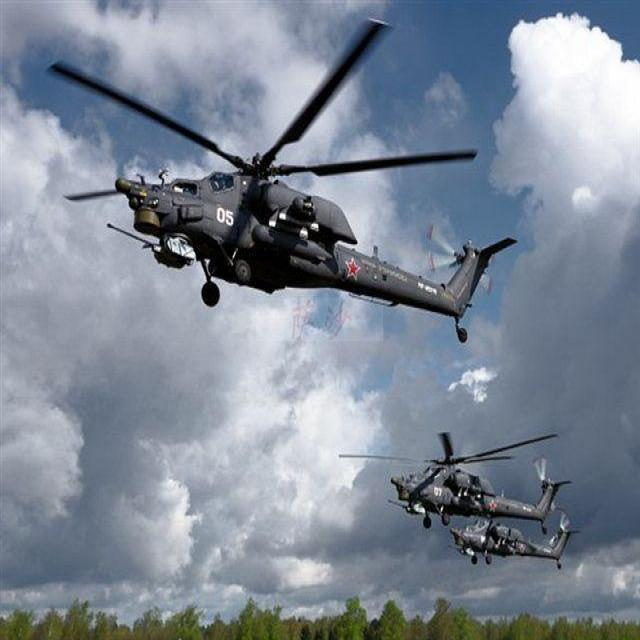MIL_HELO: (36, 17, 507, 352), (335, 423, 584, 538), (442, 503, 579, 576)
